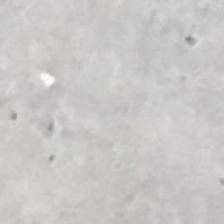Non_Crack: (15, 25, 209, 224)
